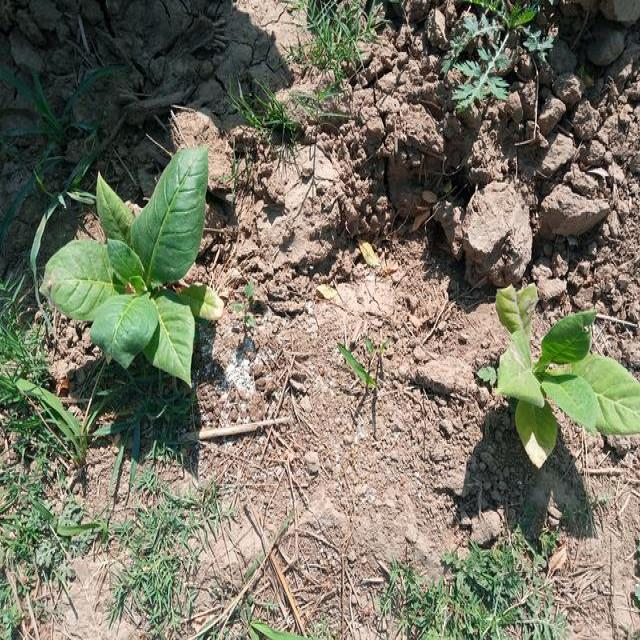crop: (41, 141, 226, 391), (486, 277, 640, 473)
